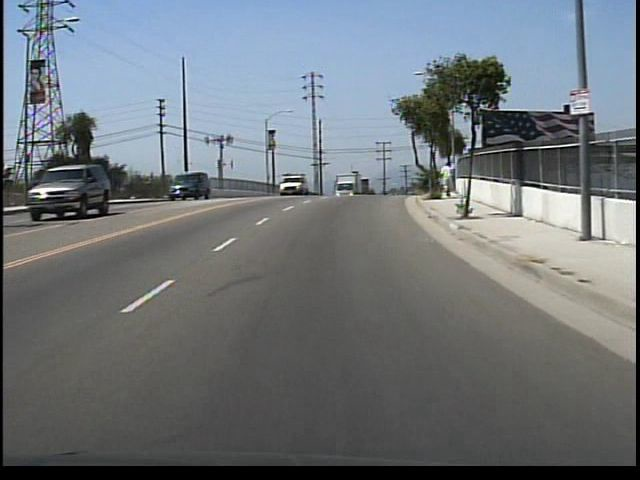person: (440, 159, 458, 200)
